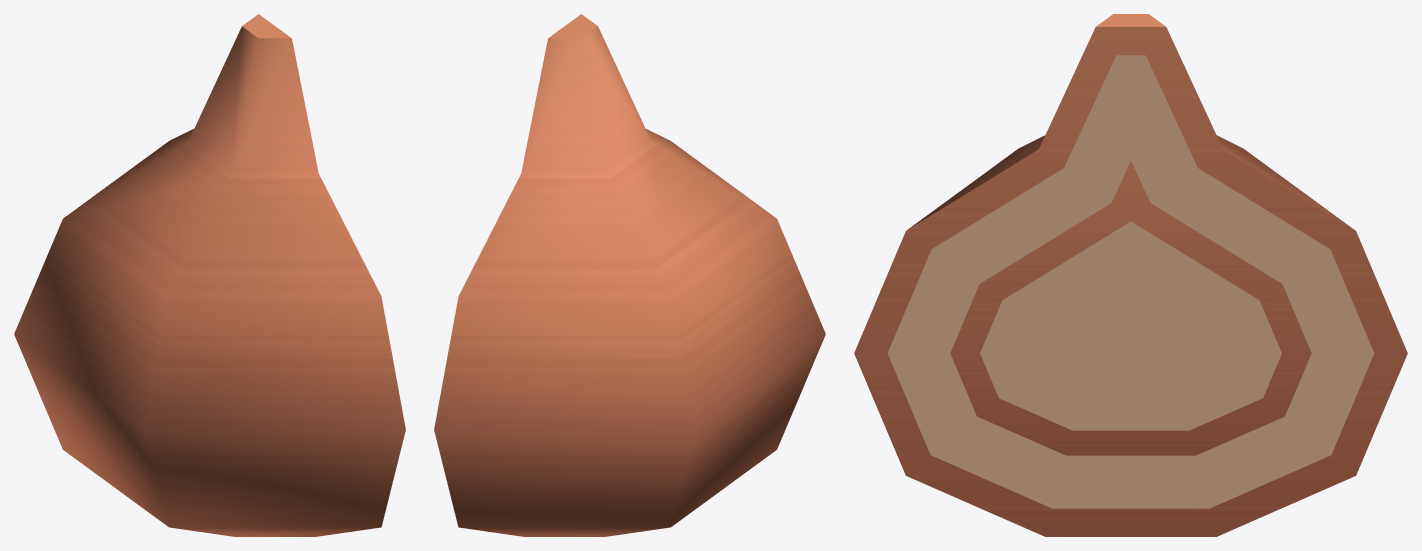
File: onion-half.glb
3 renders of one model, left to right at view 1: azimuth 30°, elevation 25°; view 2: azimuth 150°, elevation 25°; view 3: azimuth 270°, elevation 25°, orthographic. The views are drawn at different scales.
Visible parts, largest first — view 1: onion-half; view 2: onion-half; view 3: onion-half.
Part boxes in pixels (x1,y1,x2,y2): onion-half: (14, 14, 405, 536); onion-half: (434, 14, 825, 536); onion-half: (854, 14, 1407, 536).
Size of the model in its own units: 0.1065 by 0.25 by 0.246.
1 material, 1 textured.
